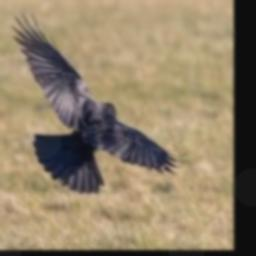Crow: (10, 6, 187, 193)
